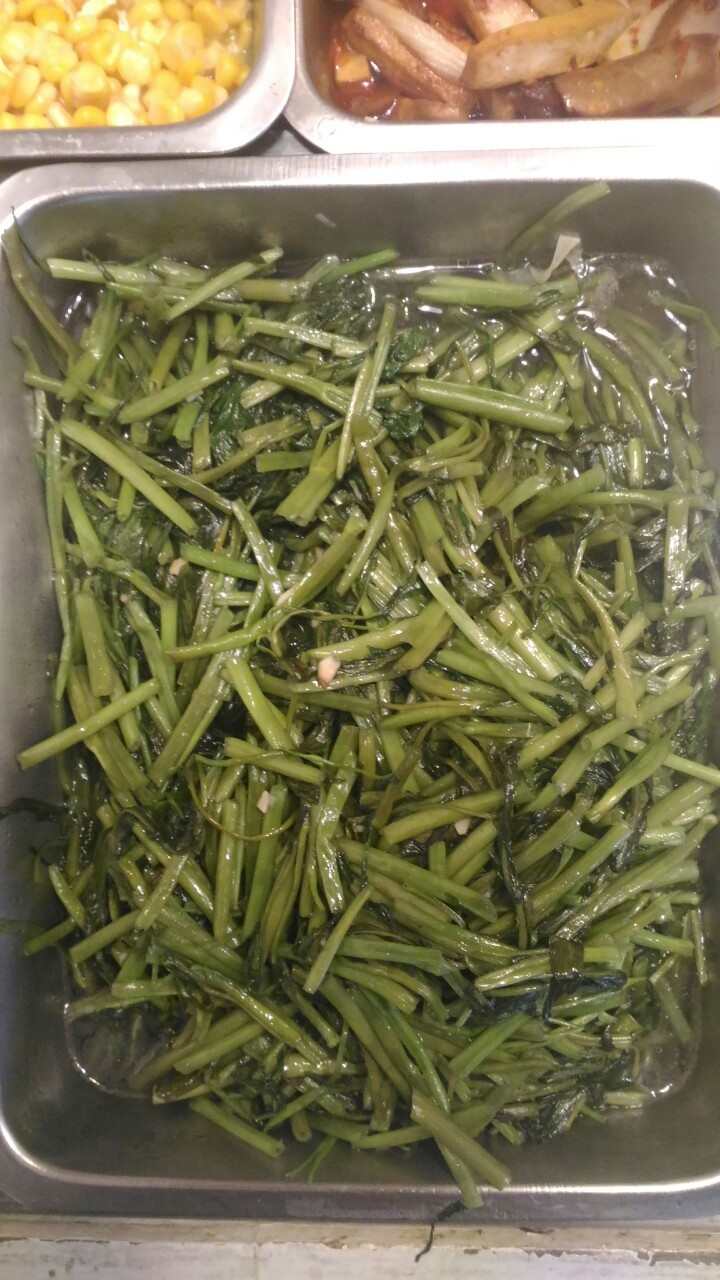water_spinach: (49, 248, 693, 1169)
